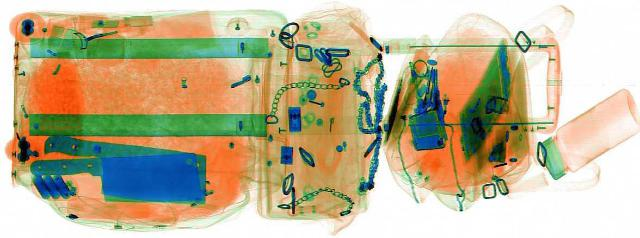Knife: (0, 133, 249, 208), (26, 151, 210, 204)
